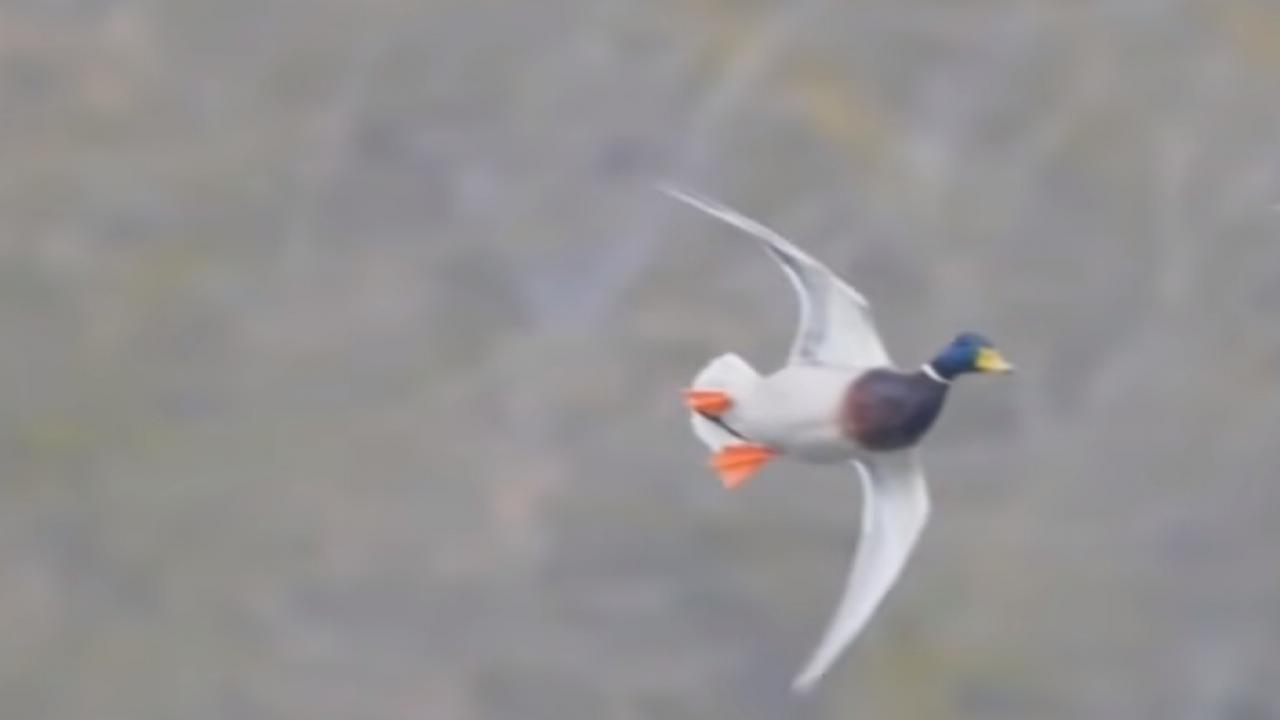Bird: (636, 163, 1028, 702)
